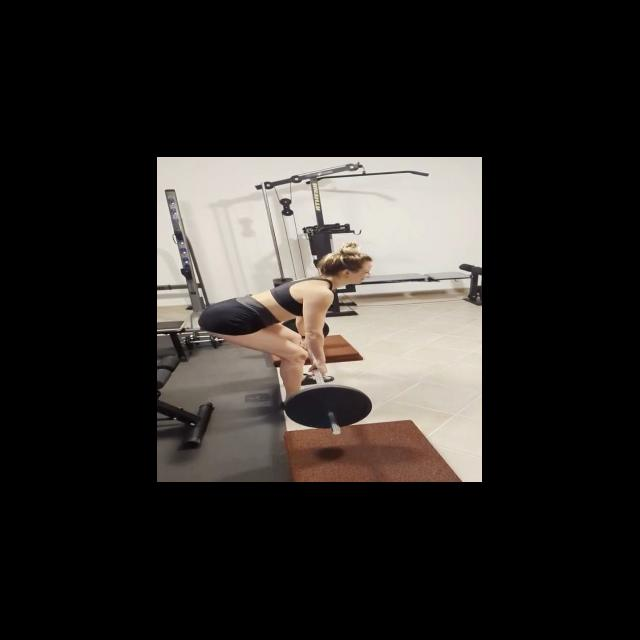barbell: (281, 382, 375, 437)
